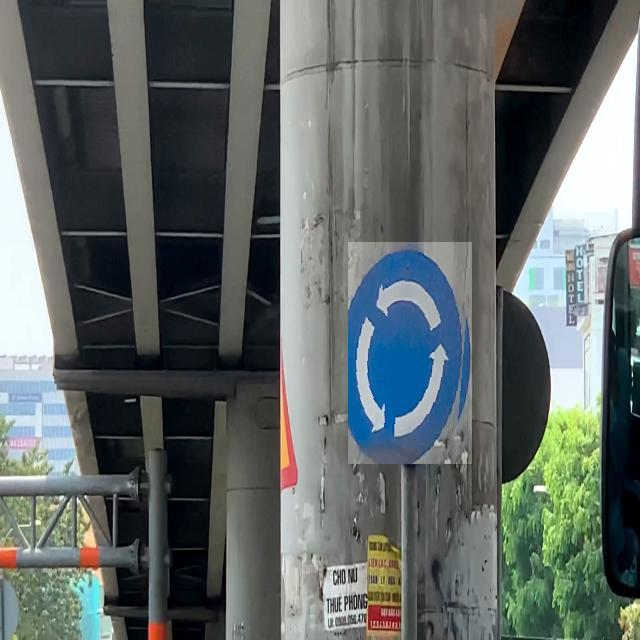R-303: (348, 243, 472, 465)
